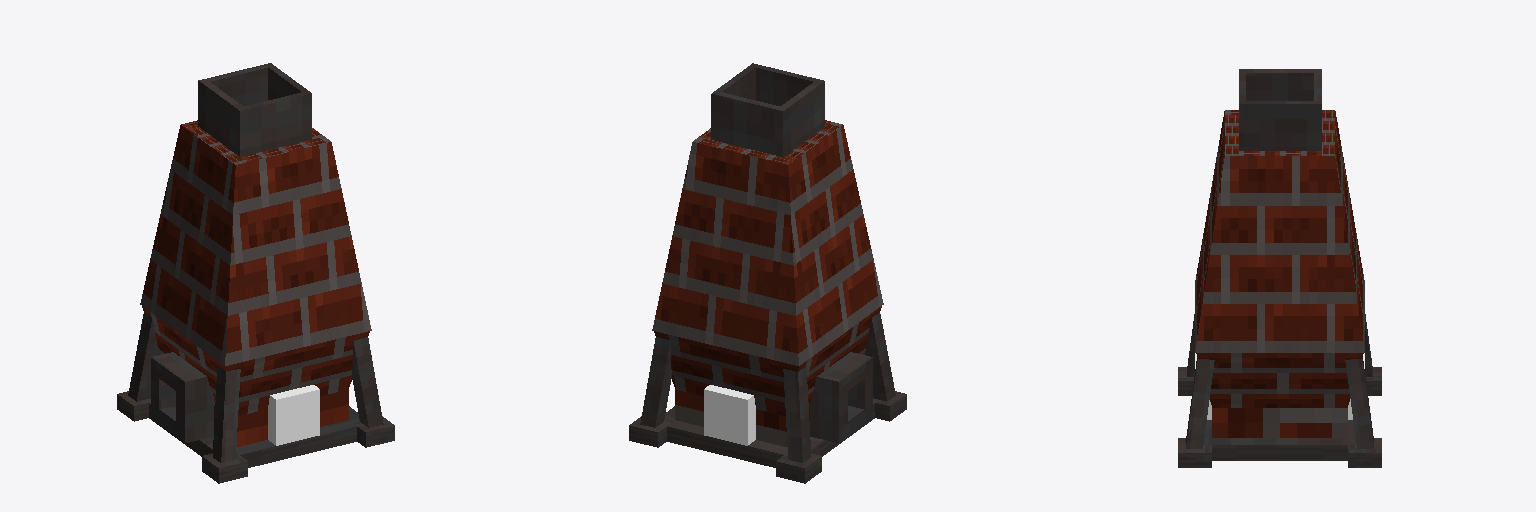
3 views of the same model, side by side, from view 1: azimuth 30°, elevation 25°; view 2: azimuth 150°, elevation 25°; view 3: azimuth 270°, elevation 25° (orthographic).
Size of the model in its own units: 12 by 22 by 12.
3 materials, 2 textured.